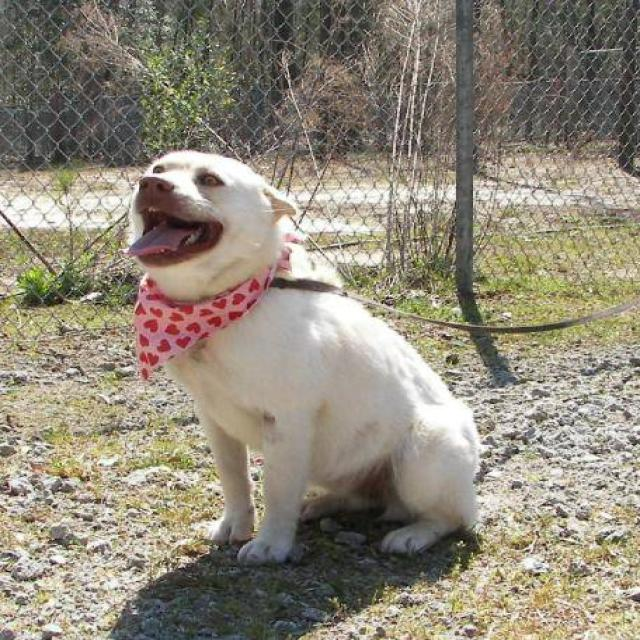dog: (124, 148, 482, 566)
